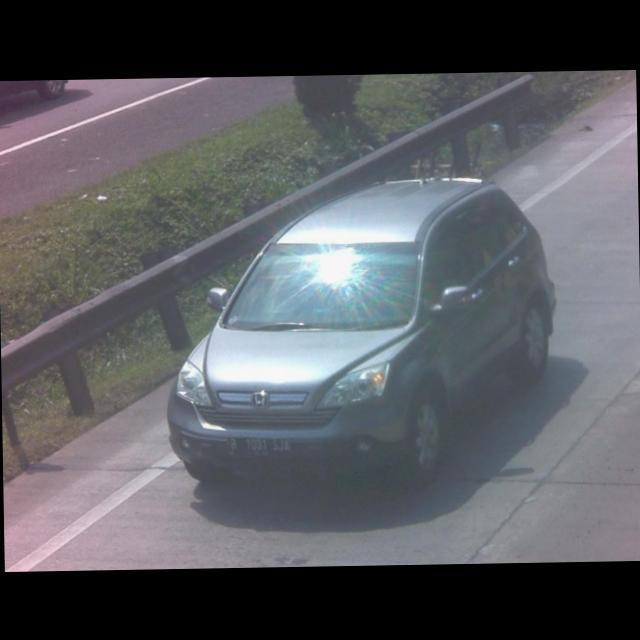plate: (226, 431, 290, 459)
